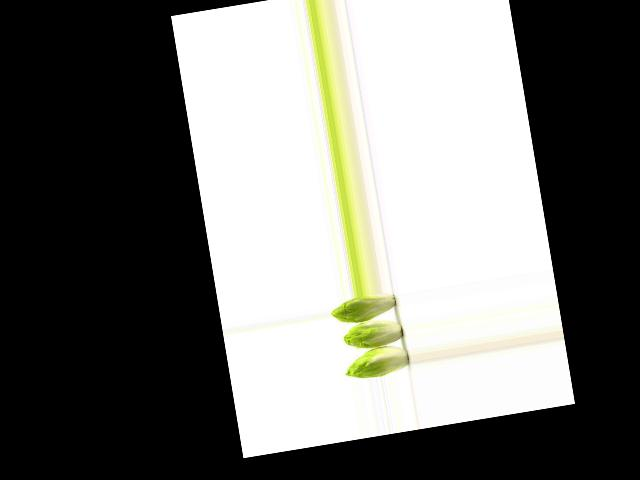lettuce: (341, 343, 413, 382)
